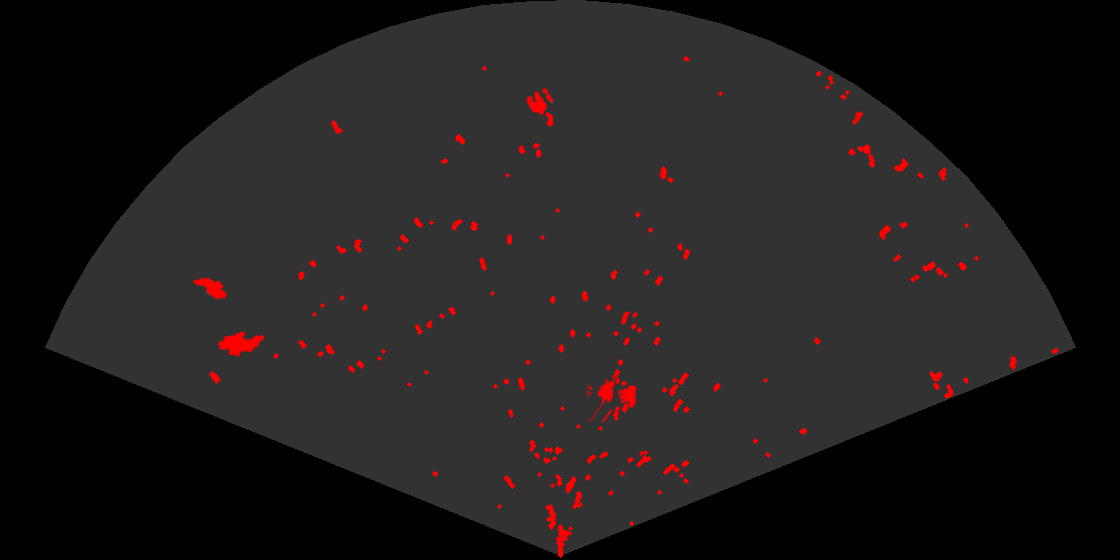AUV: (216, 330, 267, 359), (191, 276, 229, 301)
ball: (525, 86, 555, 116)
cage: (587, 375, 639, 422)
